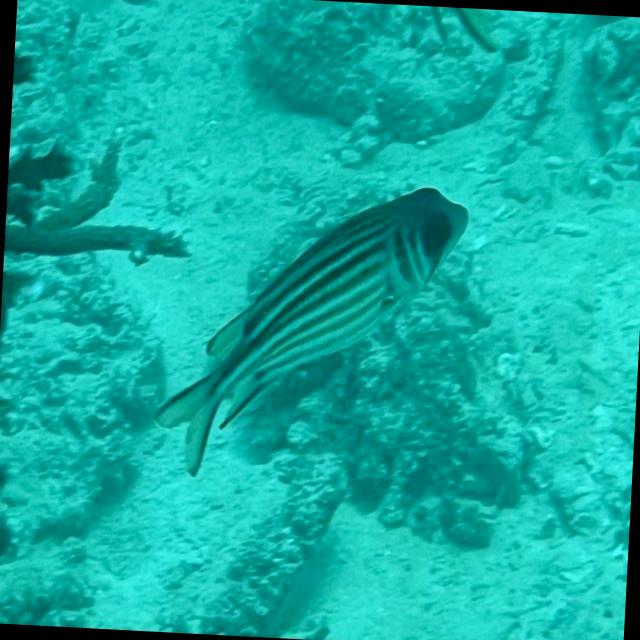Asker Baligi: (143, 145, 481, 505)
